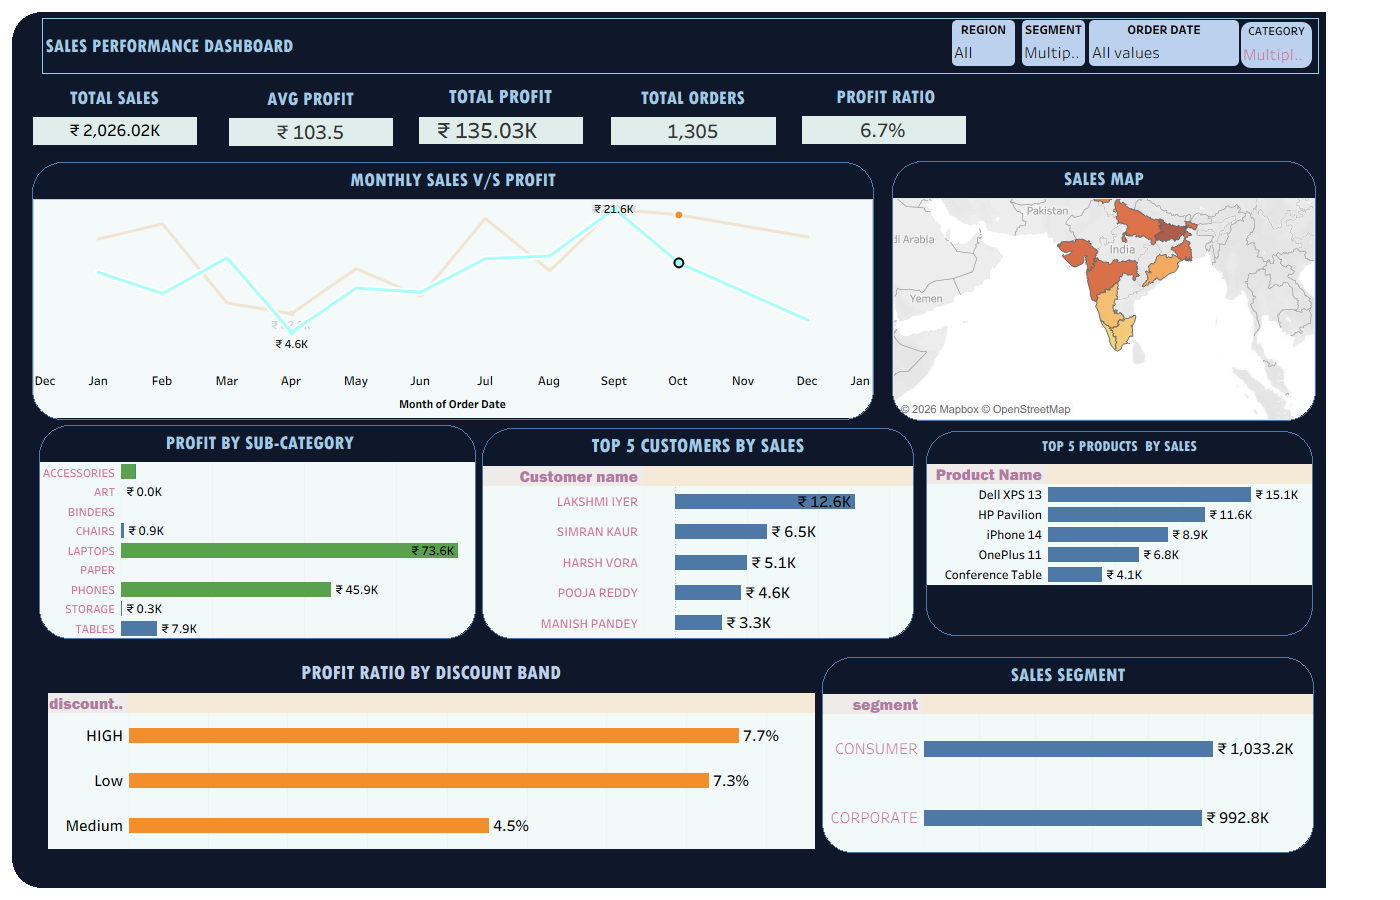

What the dashboard file says about the page in this screenshot:
{"tool":"tableau","page":{"name":"SALES PERFORMANCE ","canvas":[1400,900],"ordinal":0},"visuals":[{"type":"image","param":"C:/Users/SAHU/Downloads/plain_bg_midnight.jpg","box":[8,8,1384,884]},{"type":"text","box":[42,18,1277,56]},{"type":"filter","title":"MONTHLY TREND","param":"[federated.19p532e0ywwst513zefim1sz032y].[none:Region:nk]","box":[952,20,63,46]},{"type":"filter","title":"MONTHLY TREND","param":"[federated.19p532e0ywwst513zefim1sz032y].[none:Calculation_0546790216822786:nk]","box":[1022,20,63,46]},{"type":"filter","title":"MONTHLY TREND","param":"[federated.19p532e0ywwst513zefim1sz032y].[none:Order Date:qk]","box":[1089,20,150,46]},{"type":"filter","title":"CATEGORY ANALYSIS","param":"[federated.19p532e0ywwst513zefim1sz032y].[none:Calculation_0546790219886595:nk]","box":[1241,22,71,46]},{"type":"worksheet","title":"KPI PROFIT ","mark":"Automatic","box":[419,80,163,63]},{"type":"worksheet","title":"KPI PROFIT RATIO ","mark":"Automatic","box":[802,80,163,63]},{"type":"worksheet","title":"KPI SALES ","mark":"Automatic","box":[32.7,81,163.3,63]},{"type":"worksheet","title":"KPI ORDERS ","mark":"Automatic","box":[611,81,164,63]},{"type":"worksheet","title":"KPI PROFIT RATIO (2)","mark":"Automatic","box":[229,82,163,63]},{"type":"worksheet","title":"SALES MAP ","mark":"Multipolygon","box":[892,161,424,260]},{"type":"worksheet","title":"MONTHLY TREND","mark":"Automatic","rows":["Profit","Sales"],"cols":["Order Date"],"box":[32,162,842,258]},{"type":"worksheet","title":"CATEGORY ANALYSIS","mark":"Automatic","rows":["Calculation_0396982153588736"],"cols":["Profit"],"box":[39,425,437,214]},{"type":"worksheet","title":"TOP 10 CUSTOMERS","mark":"Automatic","rows":["Calculation_0546790212116480"],"cols":["Profit"],"box":[482,428,432,211]},{"type":"worksheet","title":"TOP 10 PRODUCTS ","mark":"Automatic","rows":["Product Name"],"cols":["Profit"],"box":[926,431,387,205]},{"type":"worksheet","title":"DISCOUNT BAND ","mark":"Automatic","rows":["Calculation_0770265728536577"],"cols":["Calculation_0770265728356352"],"box":[48,656,766,192]},{"type":"worksheet","title":"SALES SEGMENT  ","mark":"Automatic","rows":["Calculation_0546790216822786"],"cols":["Sales"],"box":[822,657,492,196]}]}

Visuals, with their boxes in screenshot pixels (x1, y1, x2, y2), scaled from the page's 1400x900 canvas onto the 1400x900 screenshot:
image: <bbox>8, 8, 1392, 892</bbox>
text: <bbox>42, 18, 1319, 74</bbox>
"MONTHLY TREND" filter: <bbox>952, 20, 1015, 66</bbox>
"MONTHLY TREND" filter: <bbox>1022, 20, 1085, 66</bbox>
"MONTHLY TREND" filter: <bbox>1089, 20, 1239, 66</bbox>
"CATEGORY ANALYSIS" filter: <bbox>1241, 22, 1312, 68</bbox>
"KPI PROFIT " worksheet: <bbox>419, 80, 582, 143</bbox>
"KPI PROFIT RATIO " worksheet: <bbox>802, 80, 965, 143</bbox>
"KPI SALES " worksheet: <bbox>33, 81, 196, 144</bbox>
"KPI ORDERS " worksheet: <bbox>611, 81, 775, 144</bbox>
"KPI PROFIT RATIO (2)" worksheet: <bbox>229, 82, 392, 145</bbox>
"SALES MAP " worksheet (Multipolygon marks): <bbox>892, 161, 1316, 421</bbox>
"MONTHLY TREND" worksheet: <bbox>32, 162, 874, 420</bbox>
"CATEGORY ANALYSIS" worksheet: <bbox>39, 425, 476, 639</bbox>
"TOP 10 CUSTOMERS" worksheet: <bbox>482, 428, 914, 639</bbox>
"TOP 10 PRODUCTS " worksheet: <bbox>926, 431, 1313, 636</bbox>
"DISCOUNT BAND " worksheet: <bbox>48, 656, 814, 848</bbox>
"SALES SEGMENT  " worksheet: <bbox>822, 657, 1314, 853</bbox>
